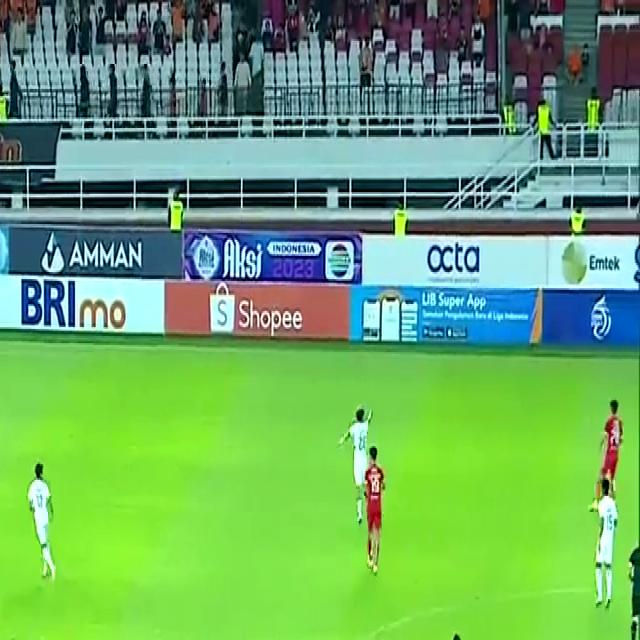referee: (619, 522, 639, 640)
soccer-player: (19, 457, 67, 590), (587, 396, 635, 524), (340, 400, 380, 529), (350, 457, 389, 585), (592, 472, 617, 614), (428, 626, 478, 640)
